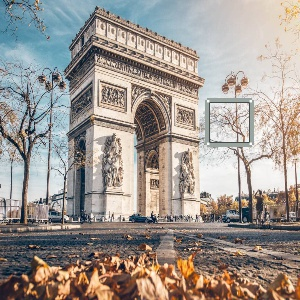square: (205, 97, 254, 147)
